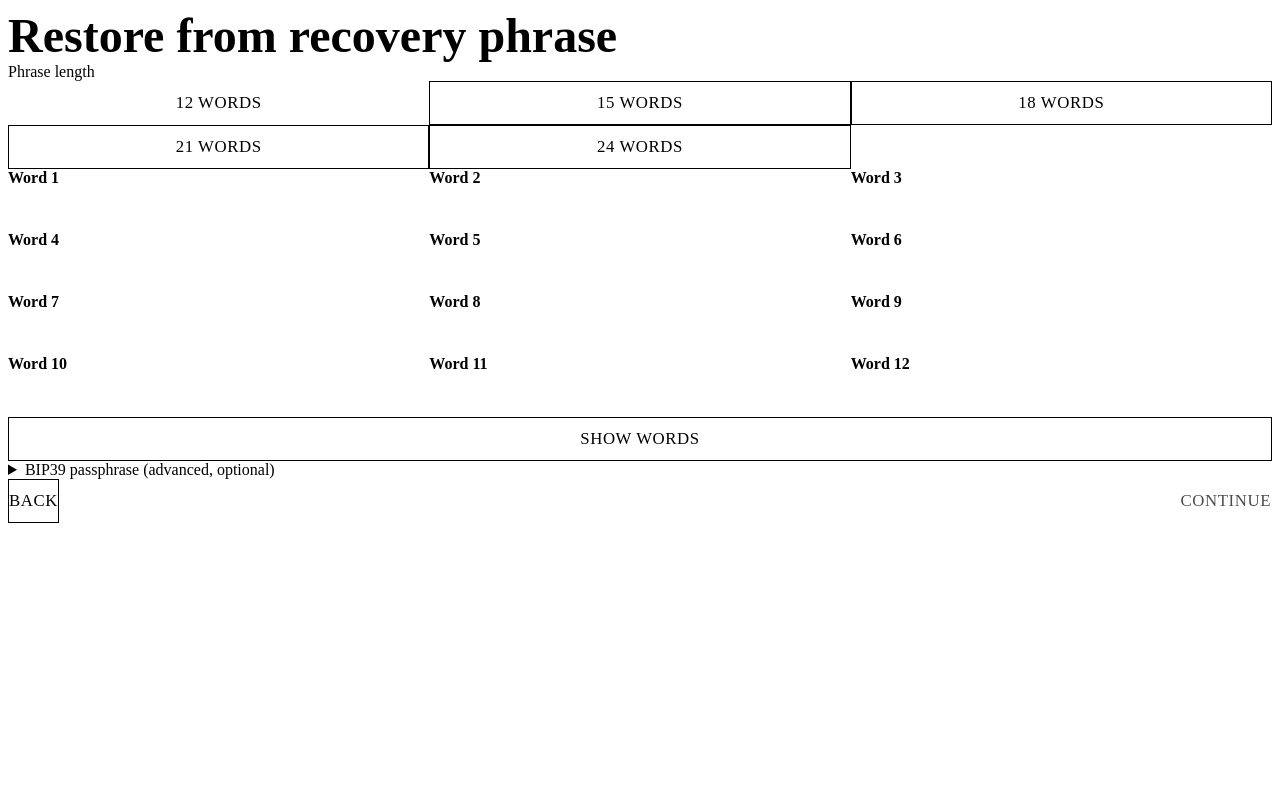
Test case: RestoreFlow phrase paste › selects the complete supported phrase length instead of truncating a valid prefix
In the password field labelled "Word 1": (219, 209) [8,187,429,231], type "pitch food above path indicate infant ride bacon neither stable raise hobby tonight tomorrow human limb wait cigar now second trophy one canvas zone"
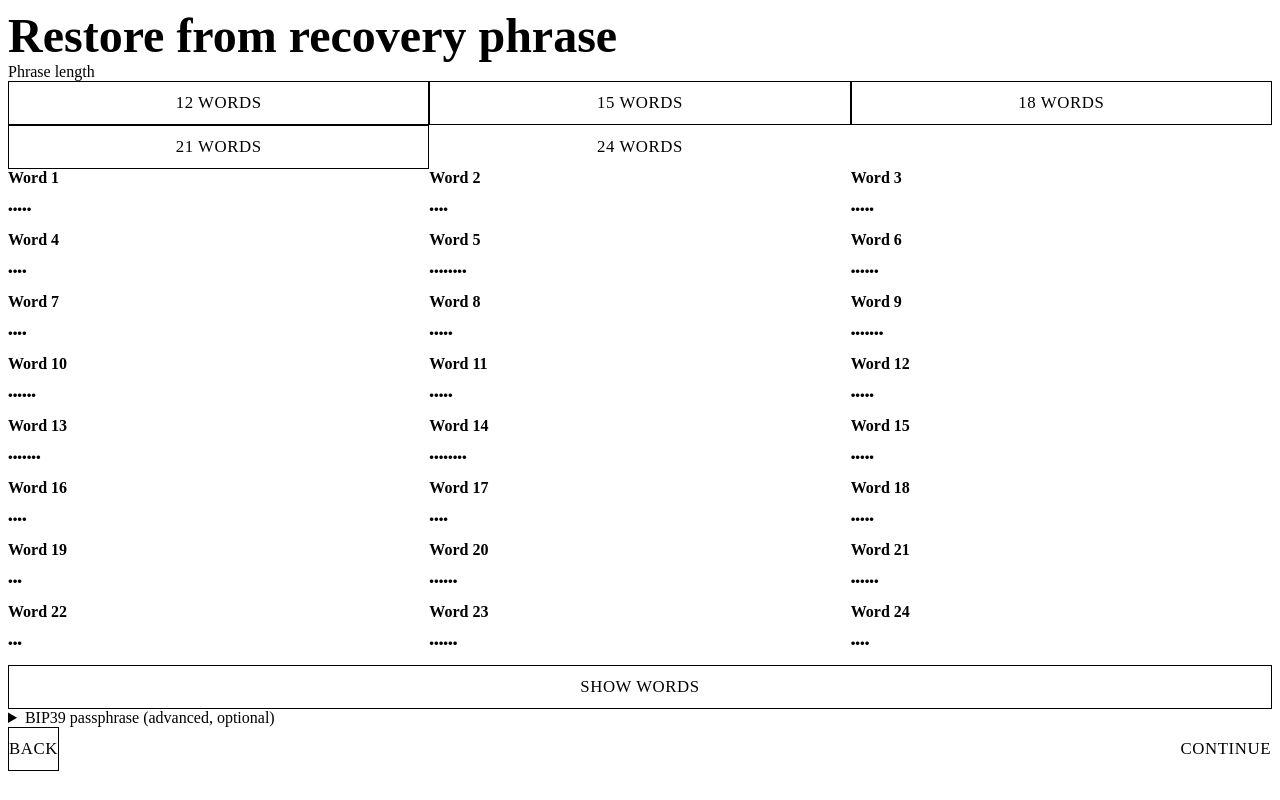
expect the password field labelled "Word 24" holds "zone": met, box [851,621,1272,665]
